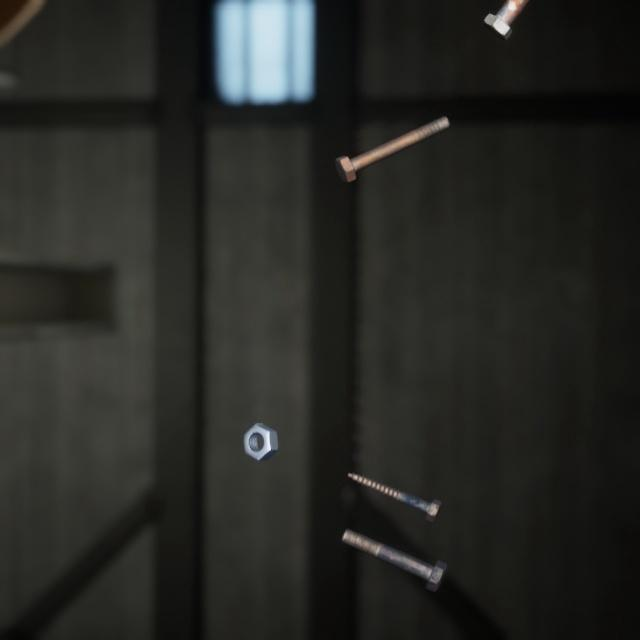bolt: (330, 99, 454, 174), (337, 503, 451, 574), (344, 447, 446, 506), (479, 0, 531, 40)
nut: (238, 398, 282, 444)
